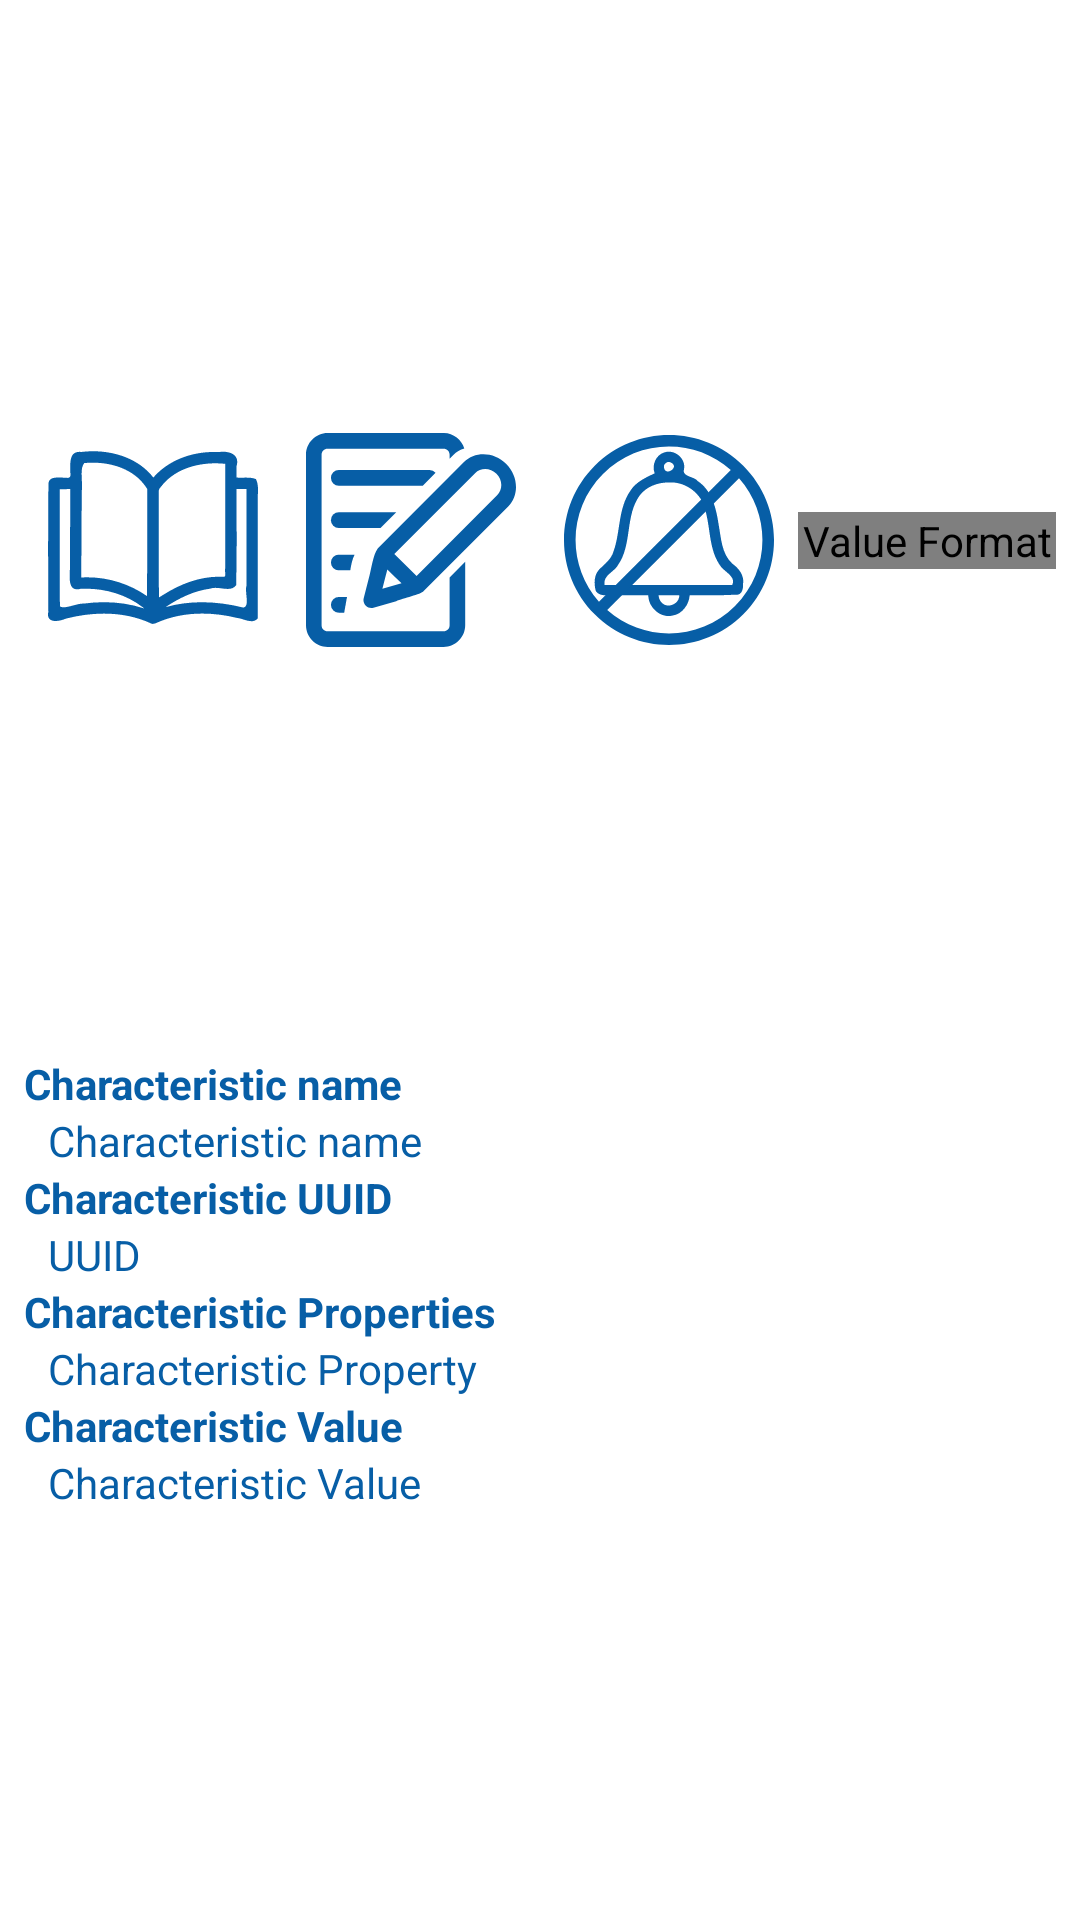

Named icons in this screenshot (1080×1920) and their bounding boxes, Rect(x1, y1, x2, y2):
Notify: Rect(564, 435, 774, 645)
Read Characteristic Value: Rect(48, 451, 258, 624)
Write Characteristic Value: Rect(306, 433, 516, 647)
